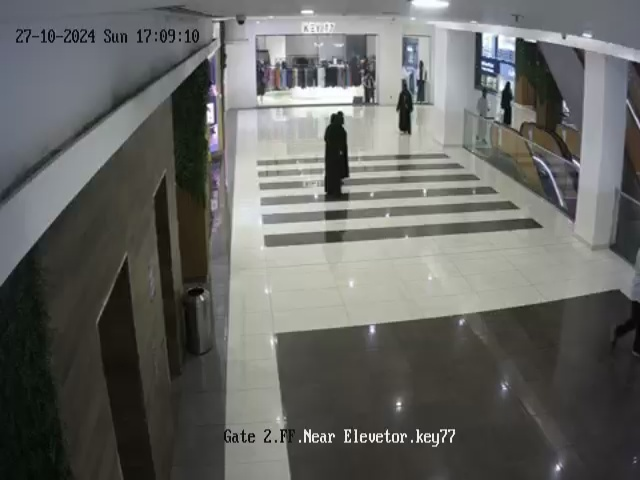female: (324, 111, 349, 196), (396, 81, 413, 135), (500, 81, 513, 125)
male: (610, 247, 640, 358), (475, 87, 490, 144)
other: (361, 61, 375, 104), (416, 60, 428, 103)
